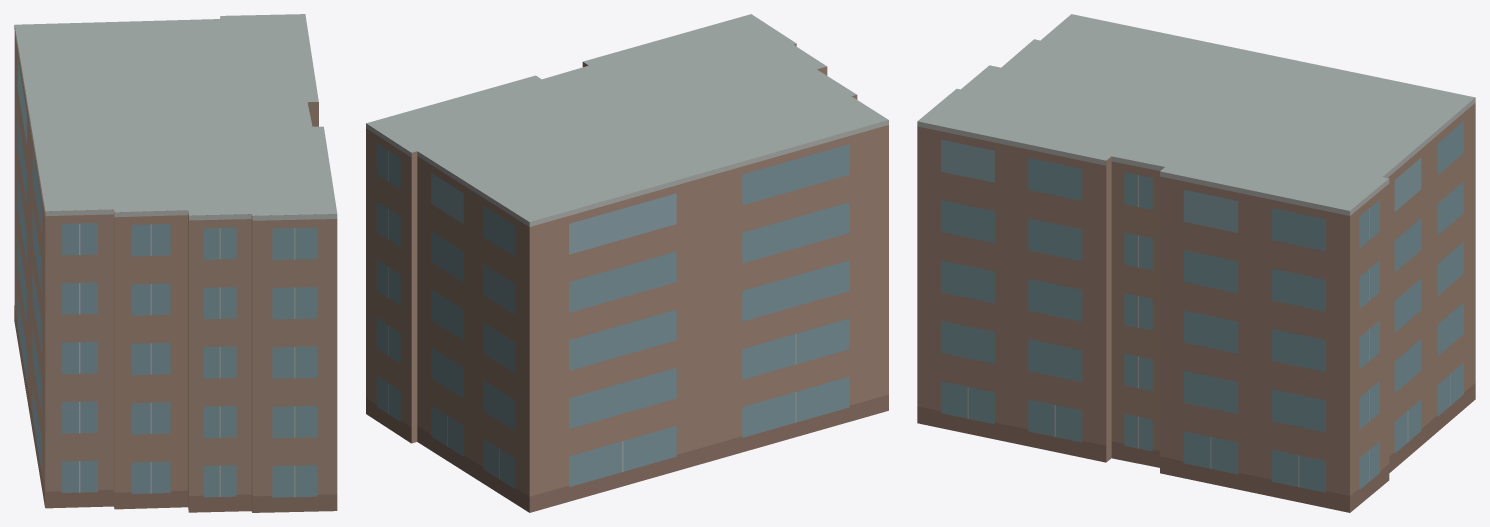
The model's file is survey-upis-32531430.glb.
3 views of the same model, side by side, from view 1: azimuth 30°, elevation 25°; view 2: azimuth 150°, elevation 25°; view 3: azimuth 270°, elevation 25° (orthographic). The views are drawn at different scales.
Parts seen in each view (by area): view 1: survey-upis-32531430.tmp; view 2: survey-upis-32531430.tmp; view 3: survey-upis-32531430.tmp.
Part boxes in pixels (x1=…): survey-upis-32531430.tmp: x1=14, y1=14, x2=337, y2=512; survey-upis-32531430.tmp: x1=366, y1=14, x2=888, y2=512; survey-upis-32531430.tmp: x1=917, y1=14, x2=1475, y2=512.
Size of the model in its own units: 20.44 by 14.6 by 24.48.
